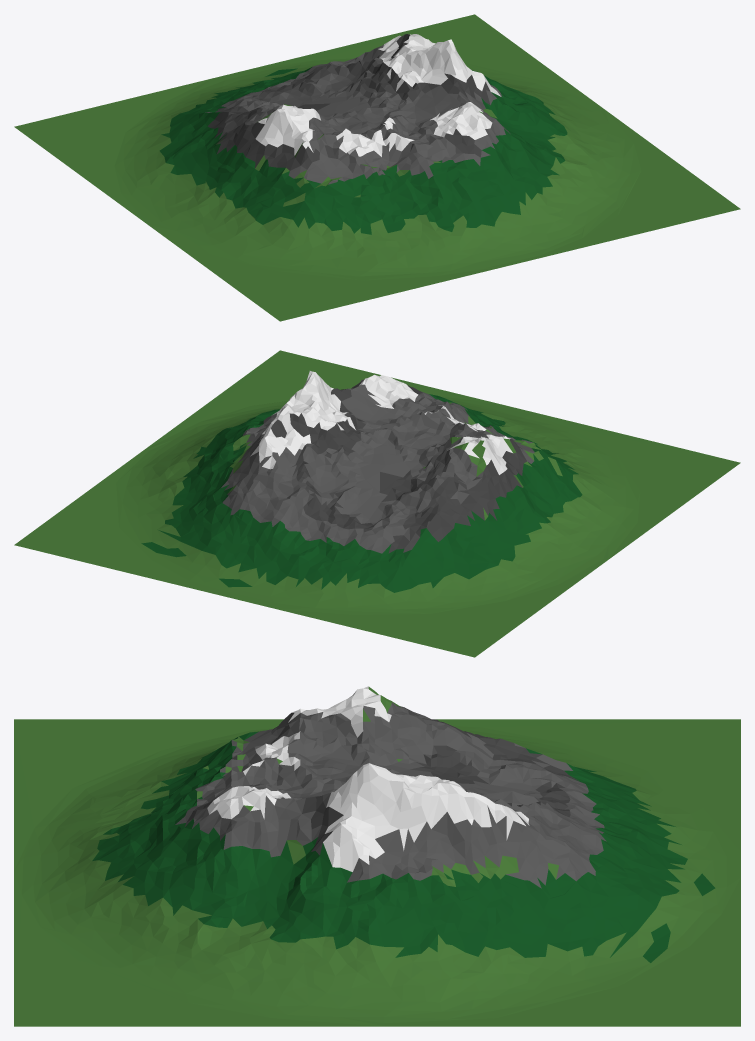
File: scene1-mauntain.fbx
The picture shows the model from 3 angles, top to bottom: view 1: azimuth 30°, elevation 25°; view 2: azimuth 150°, elevation 25°; view 3: azimuth 270°, elevation 25°; orthographic projection. The views are drawn at different scales.
Parts seen in each view (by area): view 1: Landscape.001; view 2: Landscape.001; view 3: Landscape.001.
Part boxes in pixels (box(x1,y1,x2,y2)): Landscape.001: box(14, 14, 740, 321); Landscape.001: box(14, 350, 740, 657); Landscape.001: box(14, 686, 740, 1026).
Size of the model in its own units: 14066 by 3317 by 14066.
